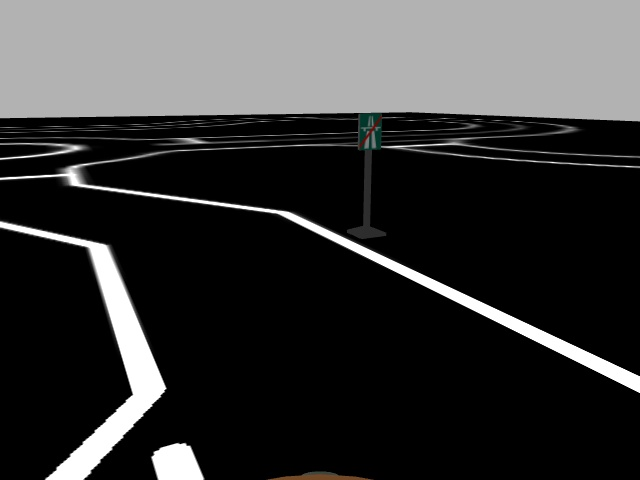leave_highway: (354, 112, 384, 153)
